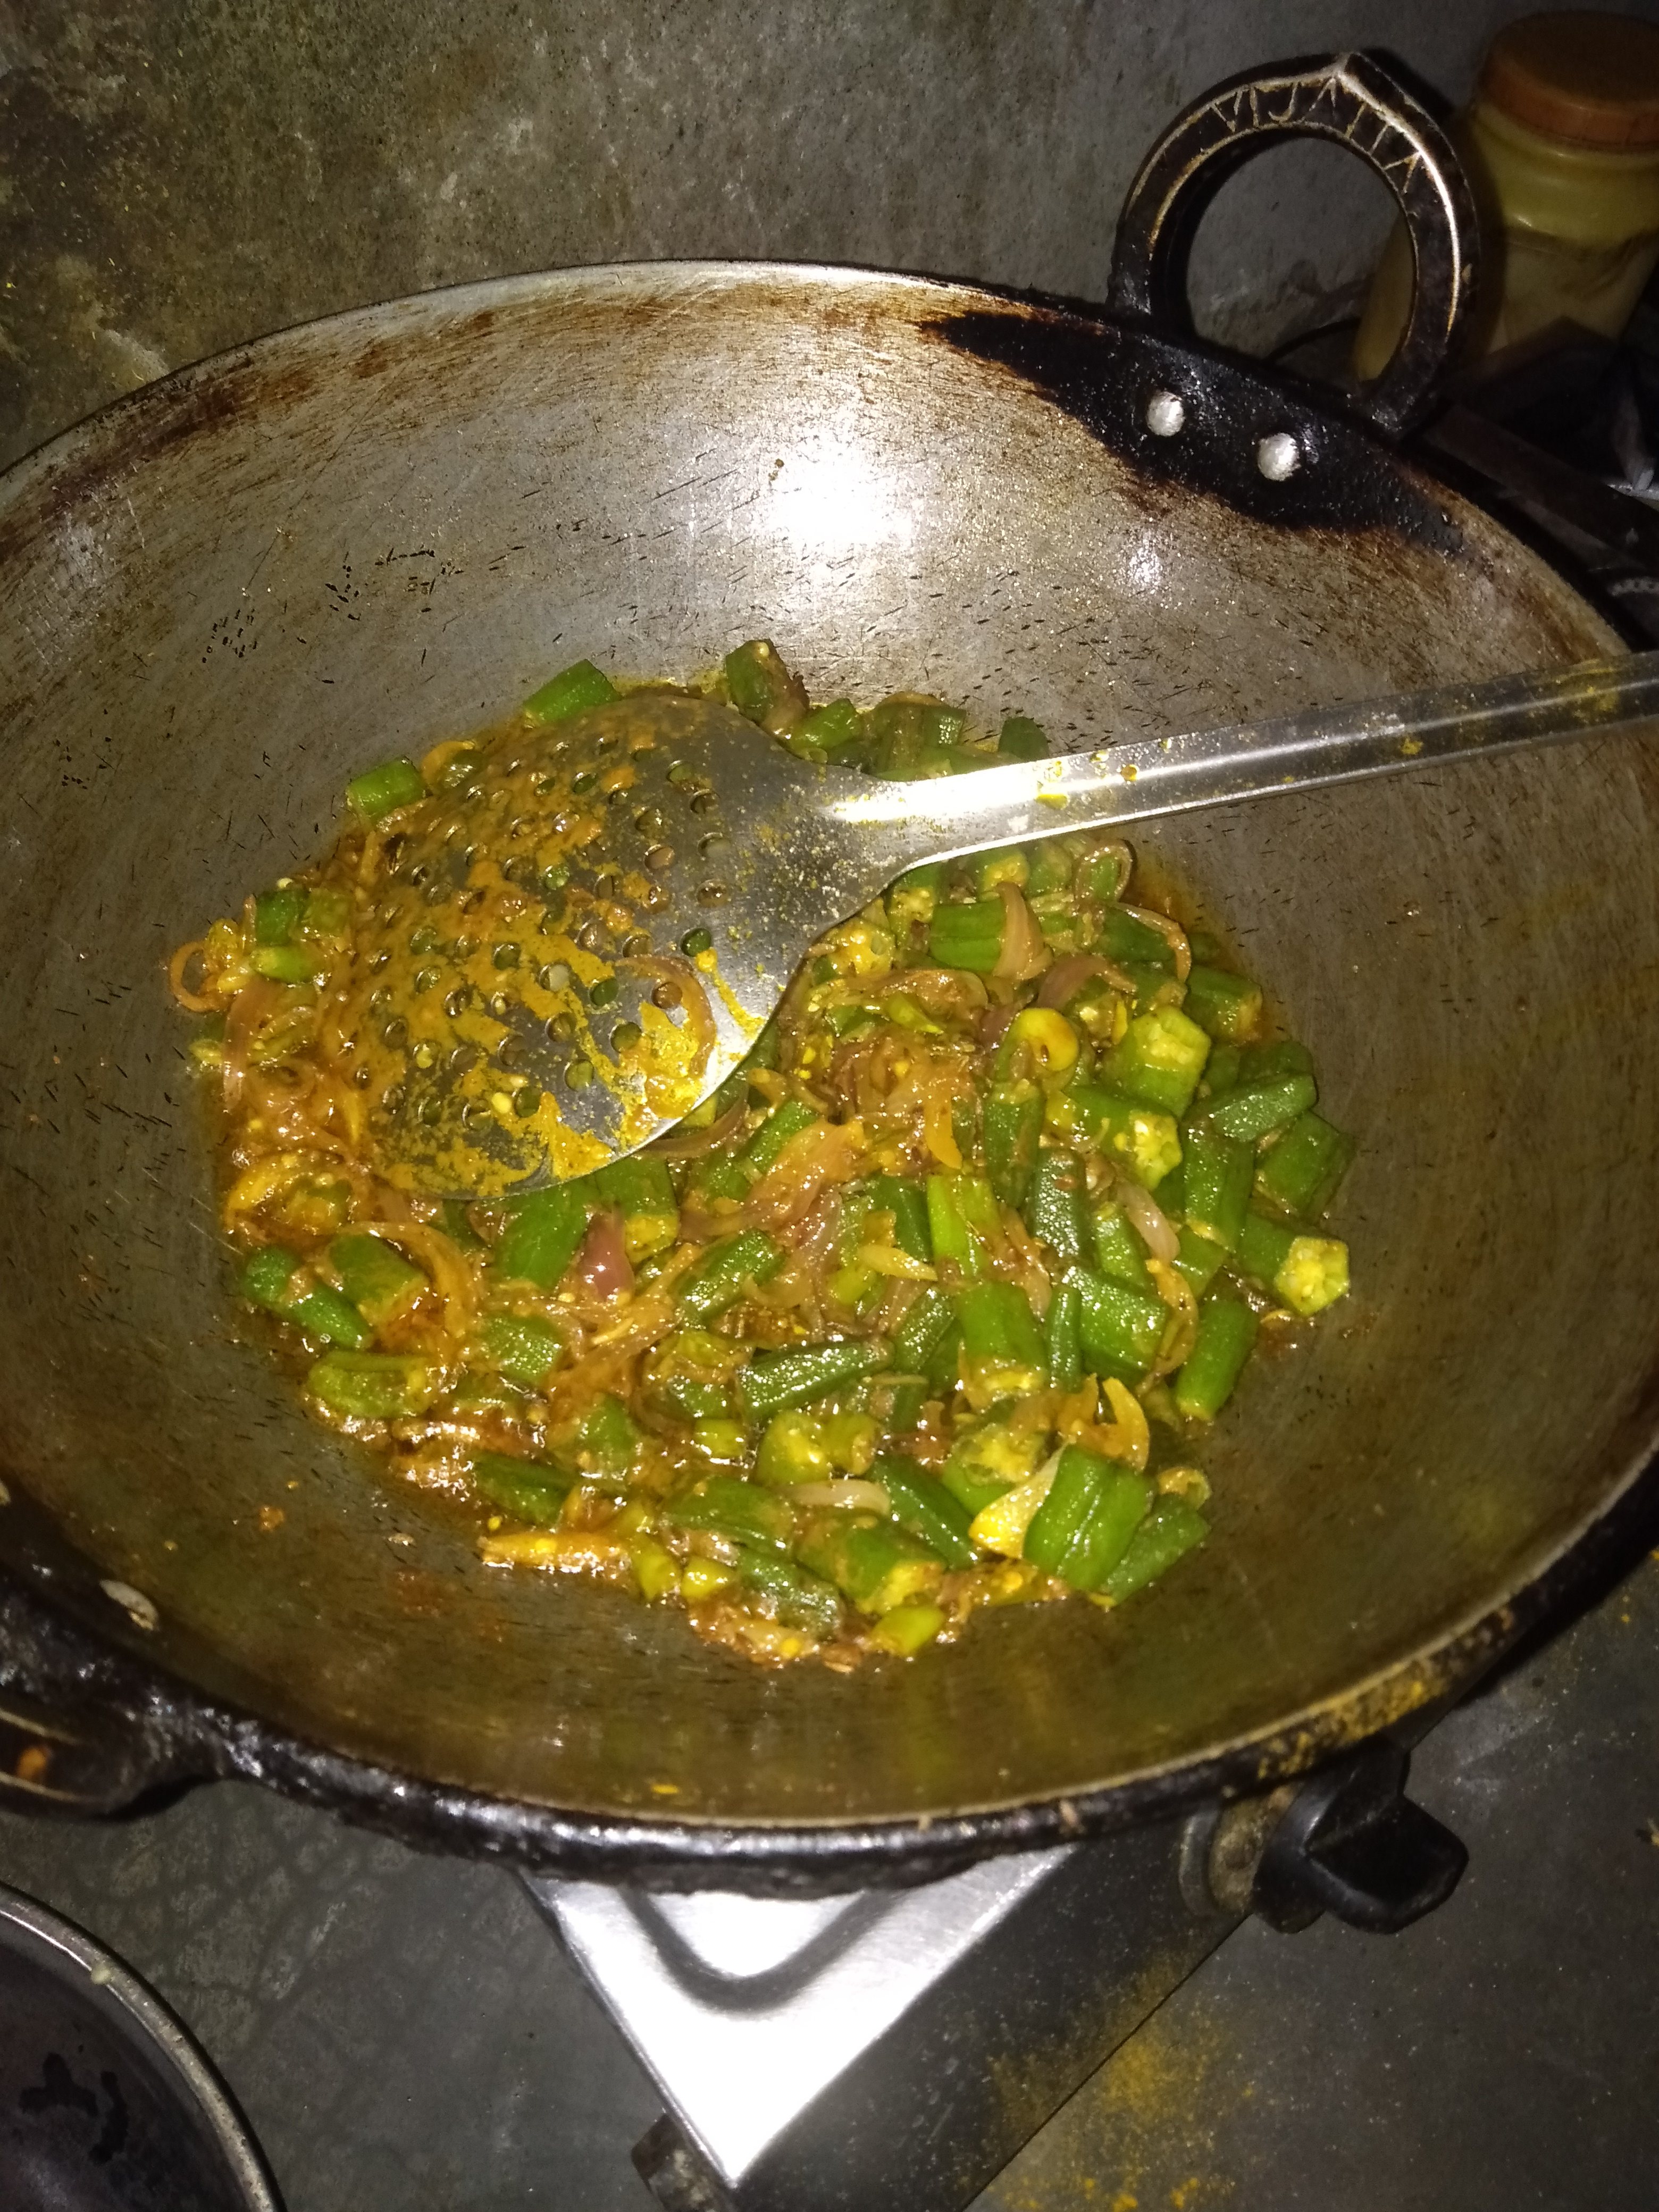food: (159, 613, 1375, 1681)
